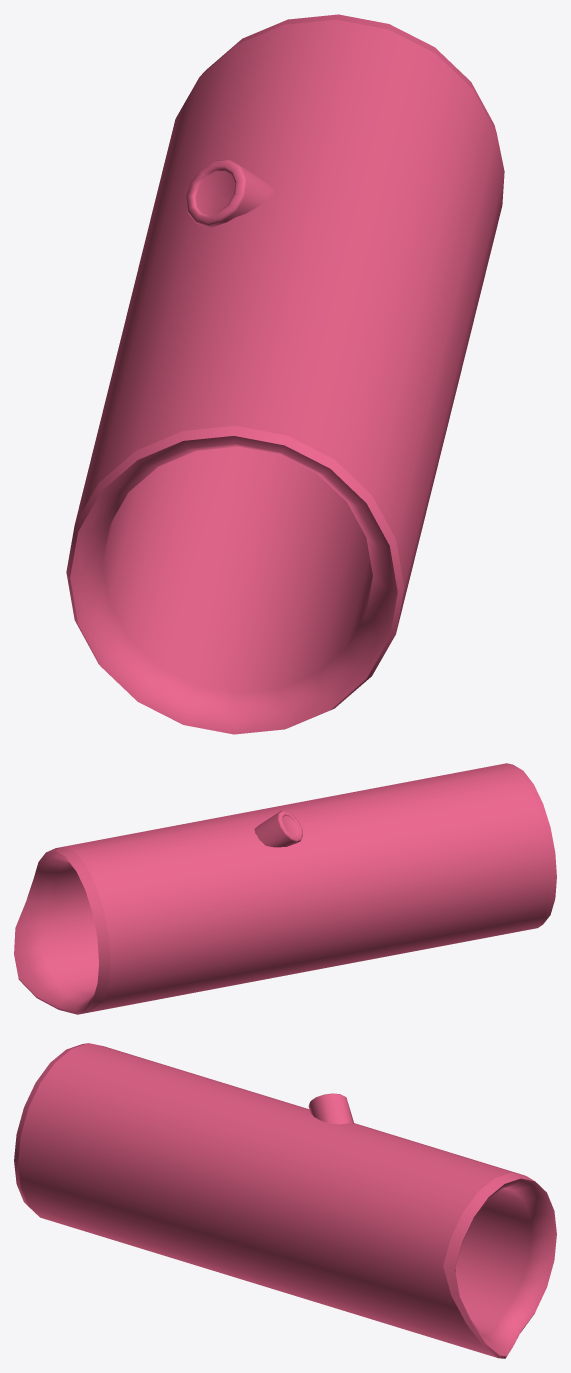
File: Log_1.fbx
The picture shows the model from 3 angles, top to bottom: view 1: azimuth 30°, elevation 25°; view 2: azimuth 150°, elevation 25°; view 3: azimuth 270°, elevation 25°; orthographic projection. The views are drawn at different scales.
Parts seen in each view (by area): view 1: log_1_low; view 2: log_1_low; view 3: log_1_low.
Boxes of the visible parts, x1,y1,x2,y2 form: log_1_low: [66, 14, 504, 734]; log_1_low: [14, 763, 556, 1014]; log_1_low: [14, 1043, 556, 1358].
Bounding box in the file's own units: 0.7618 × 0.3267 × 0.8772.
